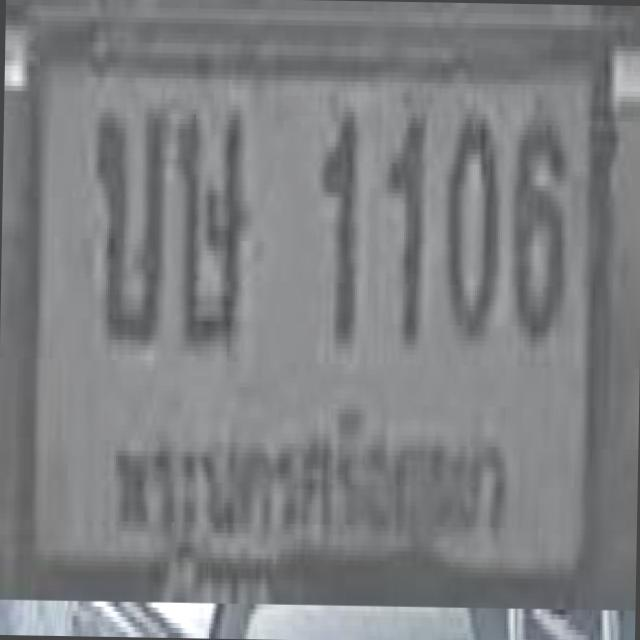license_plate: (15, 11, 614, 600)
